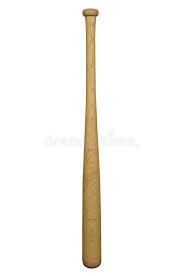bat: (79, 6, 103, 270)
